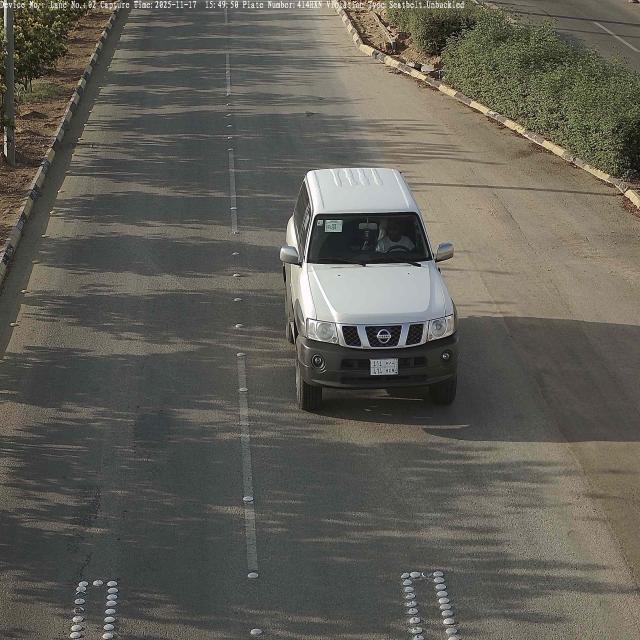person_without_seatbelt: (375, 217, 417, 255)
